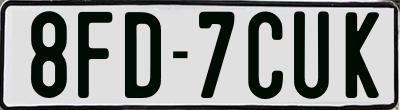7: (197, 10, 238, 102)
8: (31, 11, 73, 103)
C: (247, 10, 285, 103)
D: (124, 10, 166, 97)
F: (76, 9, 111, 97)
K: (345, 12, 378, 104)
U: (291, 11, 328, 103)
